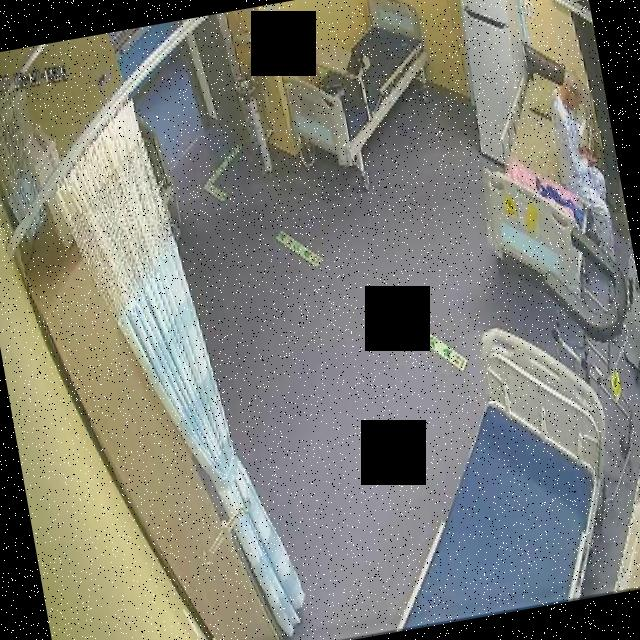bed: (352, 308, 638, 630), (460, 52, 623, 294), (269, 0, 441, 173)
patient: (540, 58, 625, 272)
sit: (541, 62, 625, 272)
